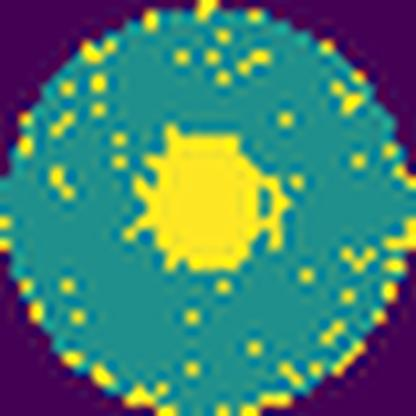Center: (127, 123, 288, 272)
